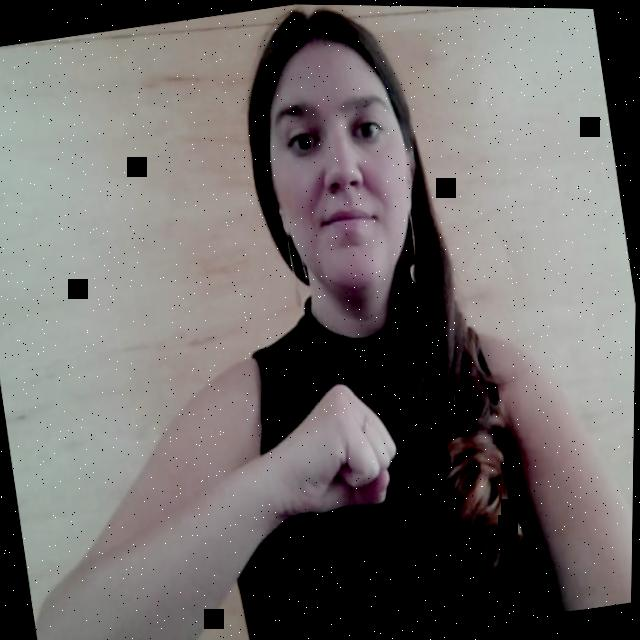Rock: (259, 368, 414, 532)
